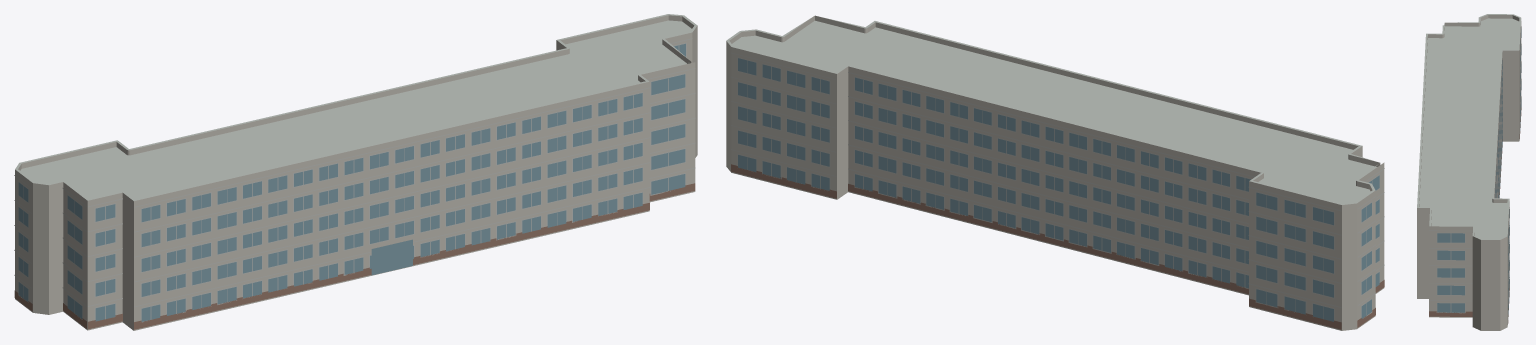
File: public-a4caff21-59e7-455e-9f0d-1a26ffd1313e.glb
The picture shows the model from 3 angles, left to right: view 1: azimuth 30°, elevation 25°; view 2: azimuth 150°, elevation 25°; view 3: azimuth 270°, elevation 25°; orthographic projection. The views are drawn at different scales.
Visible parts, largest first — view 1: public-a4caff21-59e7-455e-9f0d-1a26ffd1313e; view 2: public-a4caff21-59e7-455e-9f0d-1a26ffd1313e; view 3: public-a4caff21-59e7-455e-9f0d-1a26ffd1313e.
Part boxes in pixels (<box>): public-a4caff21-59e7-455e-9f0d-1a26ffd1313e: <box>14,14,697,330</box>; public-a4caff21-59e7-455e-9f0d-1a26ffd1313e: <box>726,15,1384,330</box>; public-a4caff21-59e7-455e-9f0d-1a26ffd1313e: <box>1417,14,1521,330</box>.
Size of the model in its own units: 81.29 by 15.25 by 16.5.
